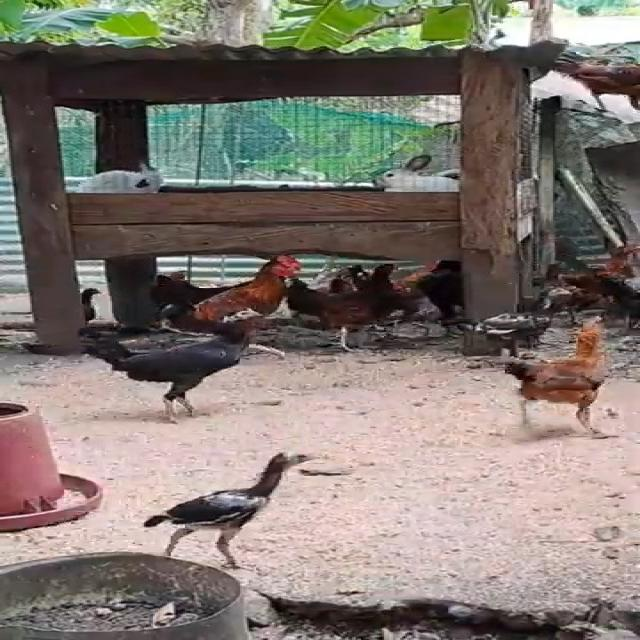running: (78, 303, 279, 432), (160, 445, 329, 567), (494, 323, 640, 447), (193, 252, 306, 334)
